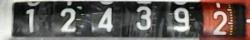digits: (97, 6, 113, 32), (60, 8, 76, 32), (211, 10, 227, 34), (135, 6, 151, 29), (173, 6, 189, 26), (26, 8, 34, 32)
